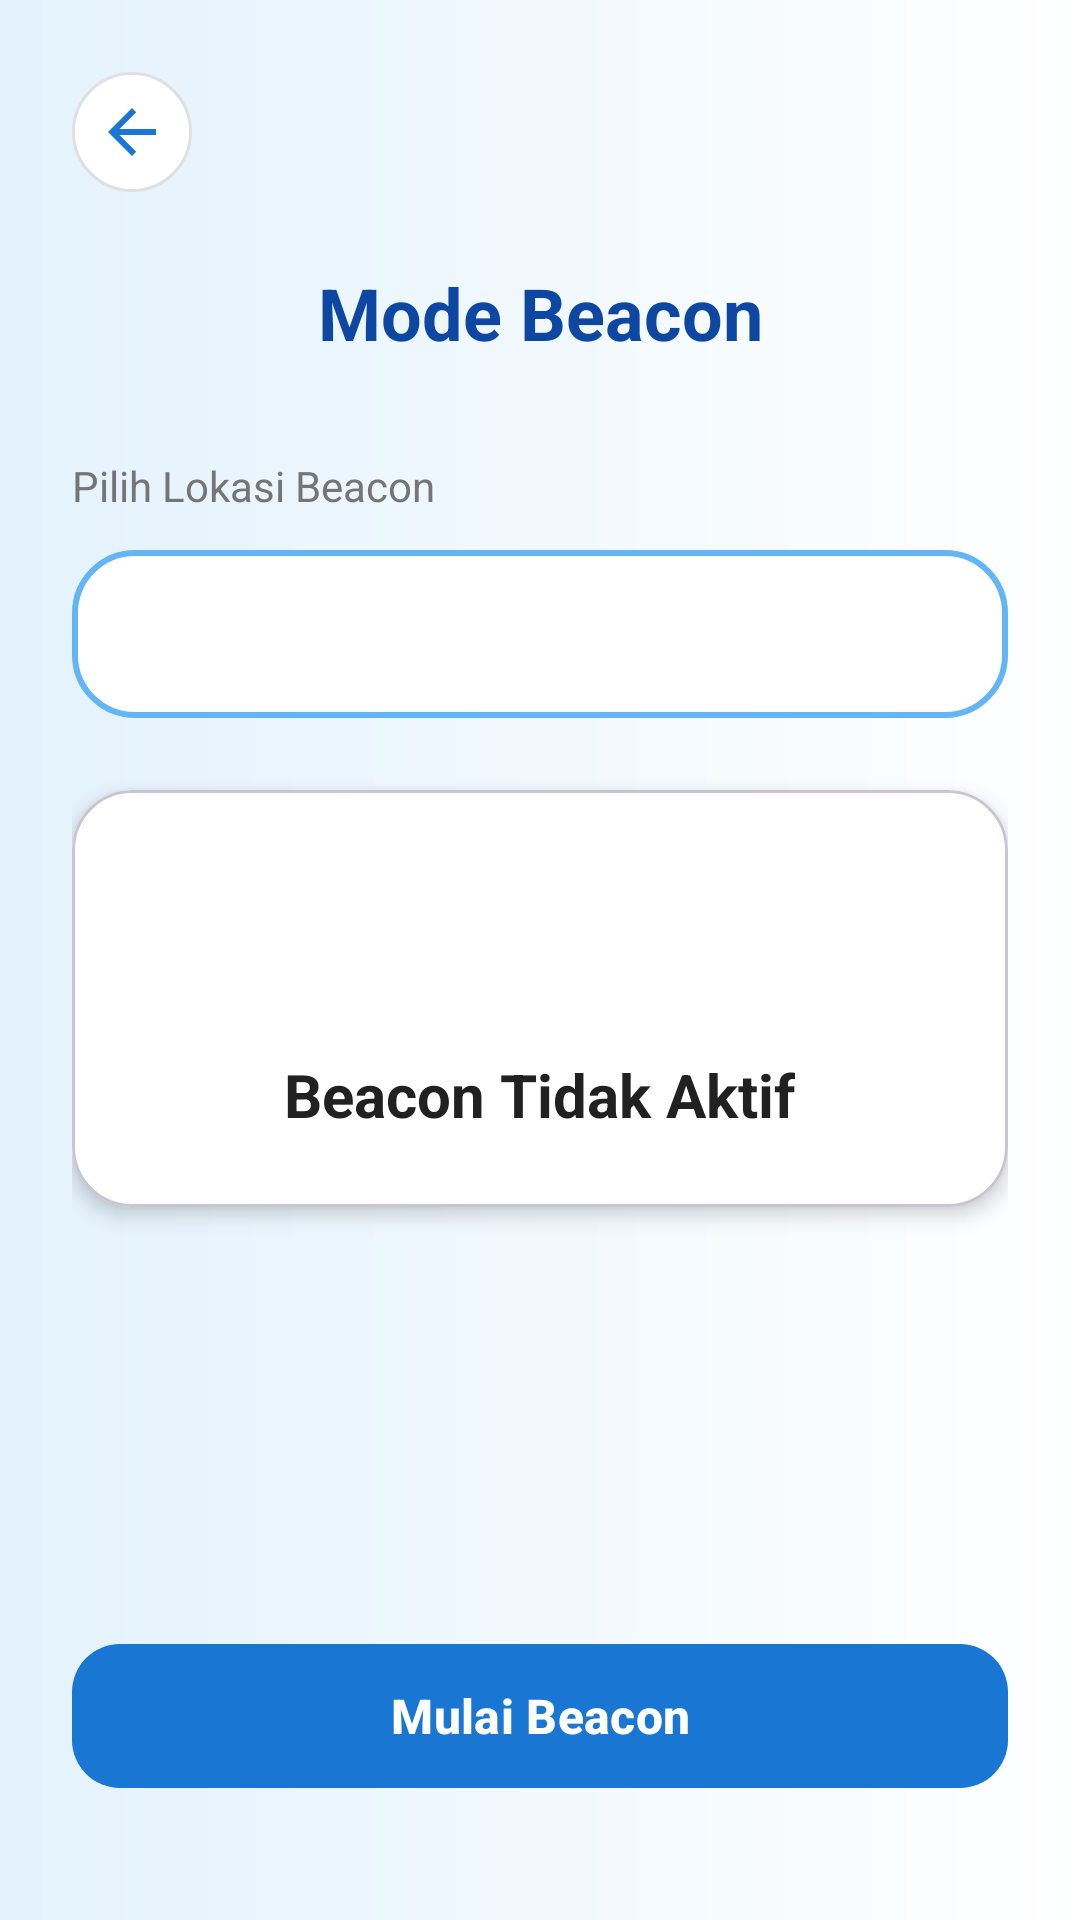

Icon click points for this 1080 x 1920 phone screenshot, format (x=x, y=y):
Kembali: (x=132, y=132)
